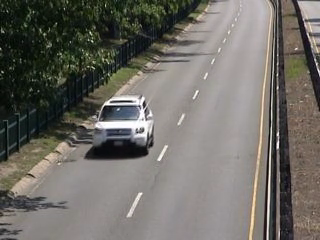car: (86, 90, 159, 158)
